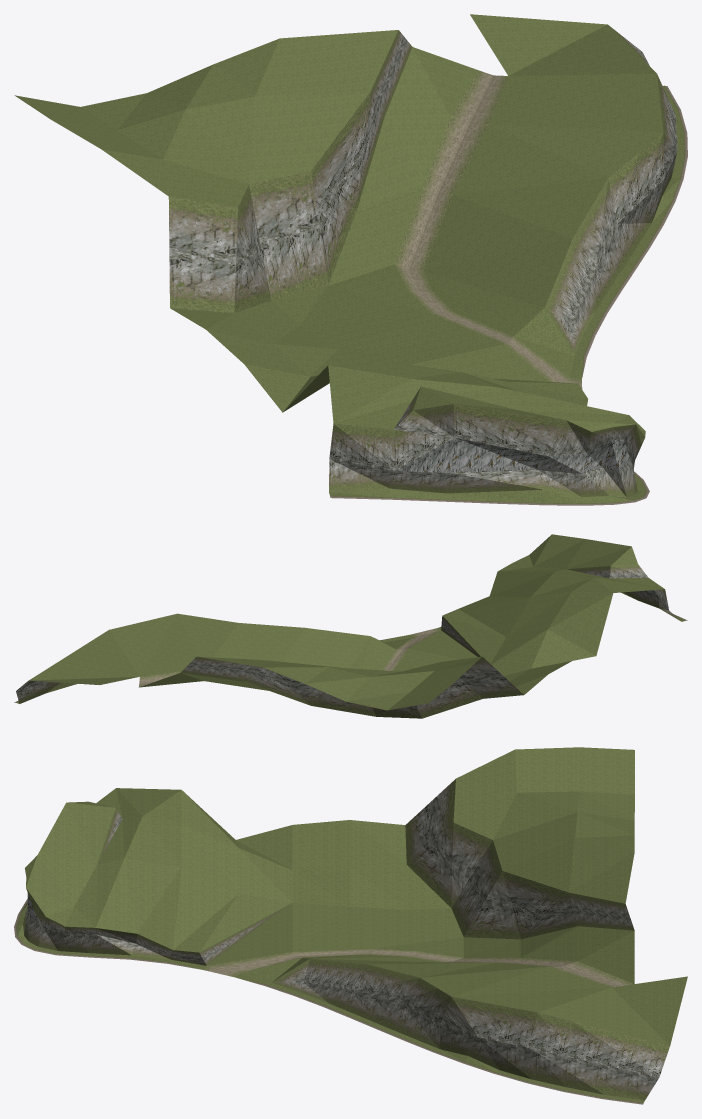
File: cuntwland08b.obj
3 renders of one model, top to bottom at view 1: azimuth 30°, elevation 25°; view 2: azimuth 150°, elevation 25°; view 3: azimuth 270°, elevation 25°, orthographic. The views are drawn at different scales.
Parts seen in each view (by area): view 1: cuntwland08b; view 2: cuntwland08b; view 3: cuntwland08b.
Boxes of the visible parts, x1,y1,x2,y2 form: cuntwland08b: (14,14,687,505); cuntwland08b: (14,534,687,718); cuntwland08b: (14,747,687,1104).
Size of the model in its own units: 336 by 74.37 by 373.
5 materials, 5 textured.
